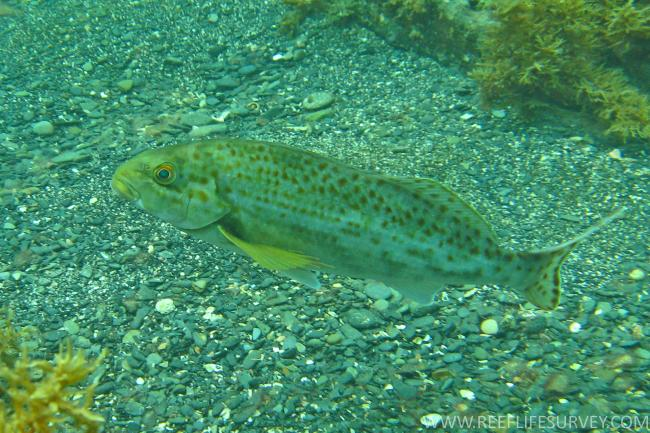fish: (113, 138, 570, 311)
